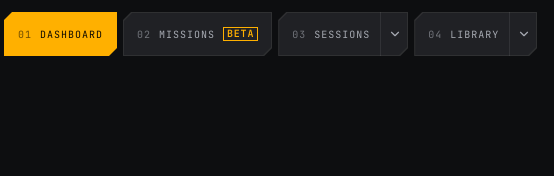
Test: SectionNav › choosing a sub-menu entry closes the menu AND the drawer (#1069)
What coordinates should you click on to do the following:
click the button named "Sessions menu"
I would click on:
 (394, 34)
Its box is [380,12,408,56].
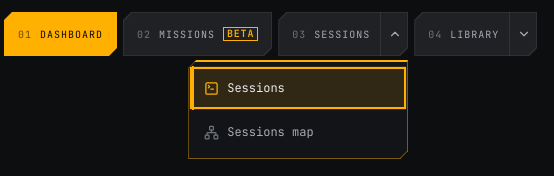
What coordinates should you click on to do the following:
click the menu item "Sessions map"
I would click on:
 (259, 132)
Its box is [204,124,314,140].
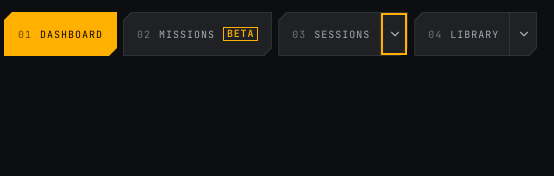
Check: the menu is gone
